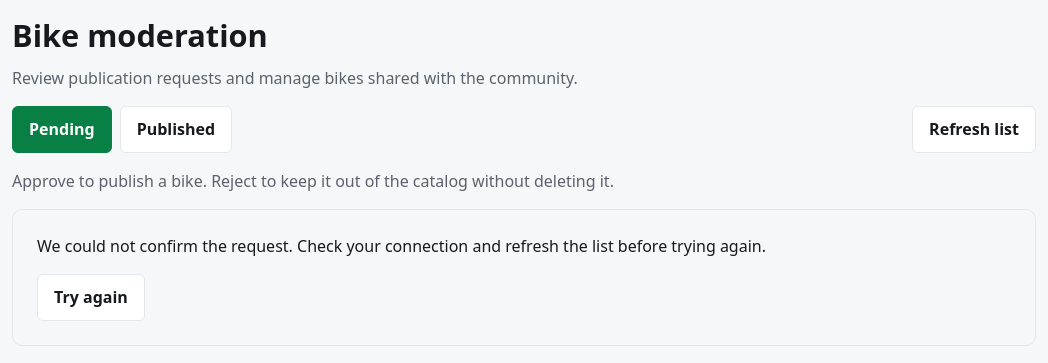
Test: recovers from a connection error when retrying the load
The width and height of the screenshot is (1048, 363).
Expected: the message shows "Check your connection", [37,235,766,257]
Click the button "Try again" at (91, 297), box [37,274,145,321]
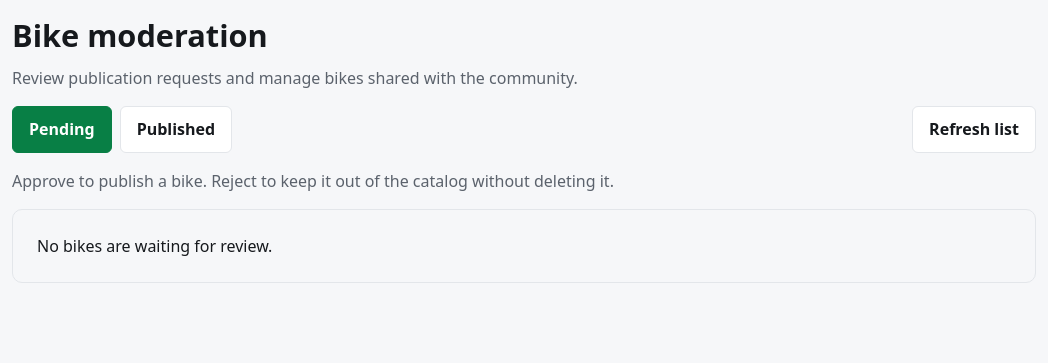
Now the text "No bikes are waiting for review." is shown, box [12,209,1036,283]
